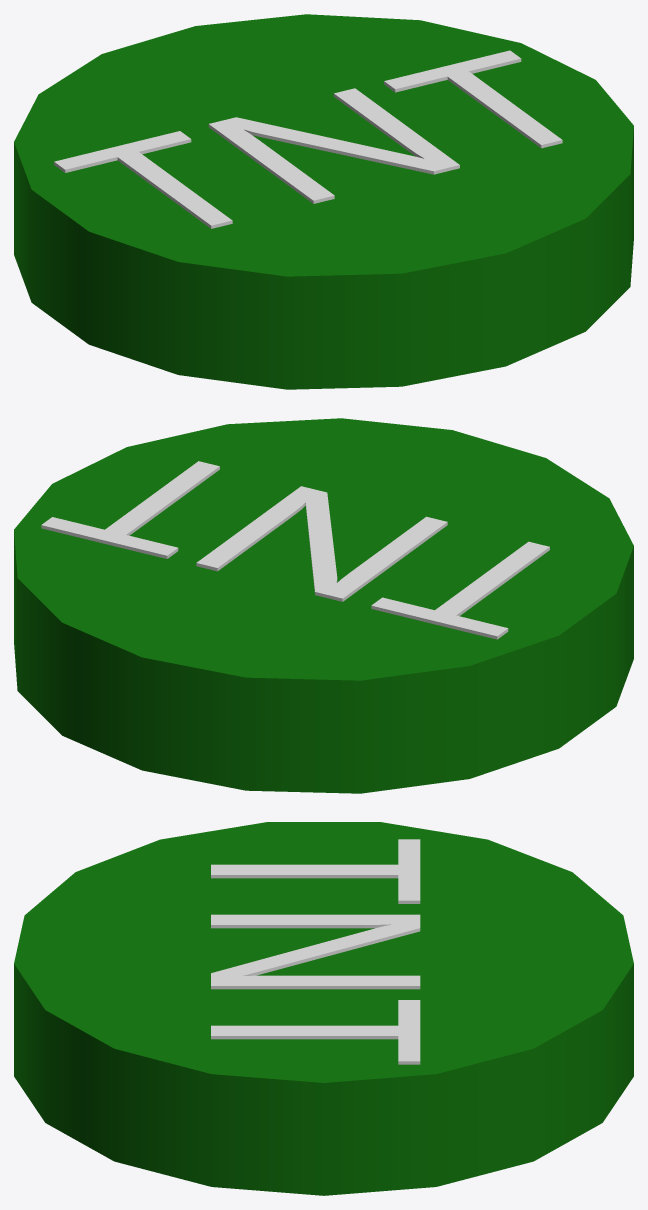
The model's file is button.fbx.
The picture shows the model from 3 angles, top to bottom: view 1: azimuth 30°, elevation 25°; view 2: azimuth 150°, elevation 25°; view 3: azimuth 270°, elevation 25°; orthographic projection.
Visible parts, largest first — view 1: tnt_button, N, T_2, T; view 2: tnt_button, N, T, T_2; view 3: tnt_button, N, T, T_2.
Boxes of the visible parts, box(x1,y1,x2,y2) form: tnt_button: box(14, 14, 633, 389); N: box(208, 88, 459, 203); T_2: box(384, 50, 562, 148); T: box(54, 131, 232, 228); tnt_button: box(14, 418, 633, 793); N: box(196, 486, 447, 601); T: box(371, 541, 549, 639); T_2: box(41, 461, 219, 558); tnt_button: box(14, 822, 633, 1195); N: box(211, 914, 420, 989); T: box(211, 839, 420, 903); T_2: box(211, 1000, 420, 1064).
Bounding box in the file's own units: 50.29 × 10.44 × 50.5.
